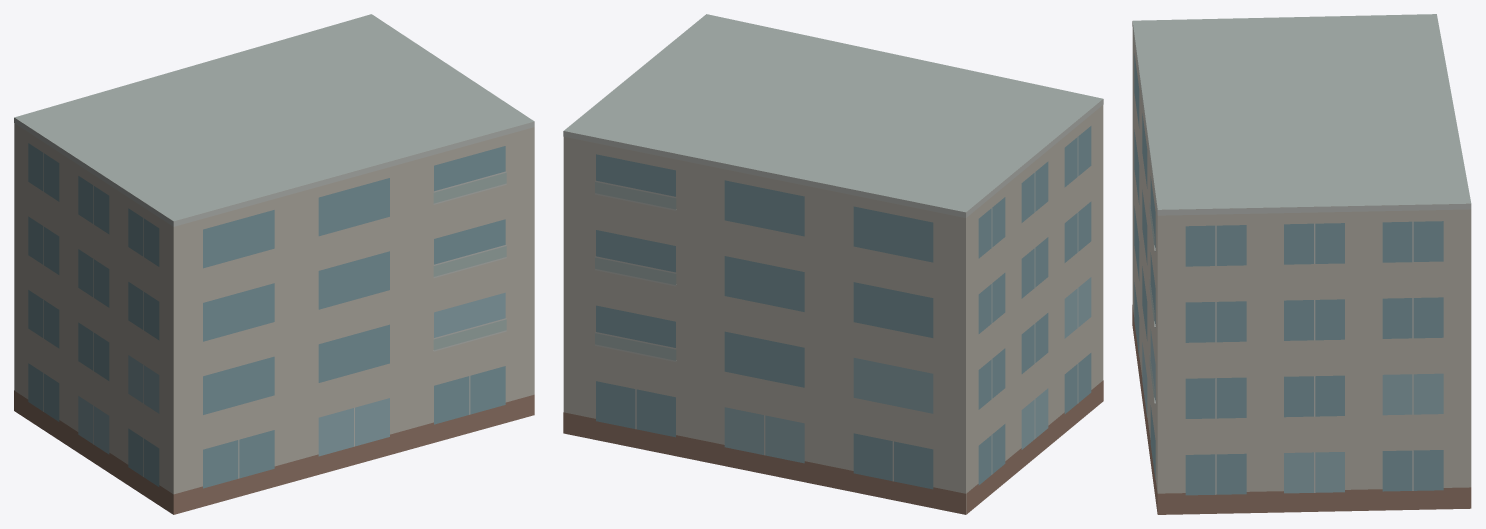
Rendered from survey-upis-32780355.glb.
The picture shows the model from 3 angles, left to right: view 1: azimuth 30°, elevation 25°; view 2: azimuth 150°, elevation 25°; view 3: azimuth 270°, elevation 25°; orthographic projection. The views are drawn at different scales.
Parts seen in each view (by area): view 1: survey-upis-32780355.tmp; view 2: survey-upis-32780355.tmp; view 3: survey-upis-32780355.tmp.
Boxes of the visible parts, <box> form: survey-upis-32780355.tmp: <box>14,14,534,514</box>; survey-upis-32780355.tmp: <box>563,14,1103,514</box>; survey-upis-32780355.tmp: <box>1132,14,1471,514</box>.
Bounding box in the file's own units: 17.78 × 12.9 × 13.
